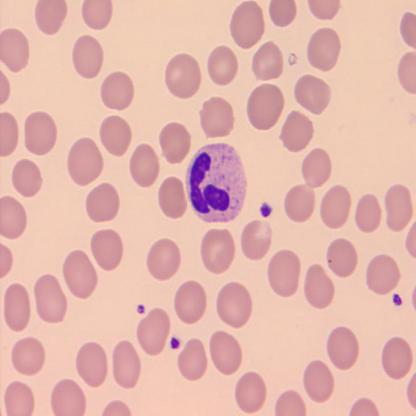Segmented neutrophil: (183, 141, 249, 225)
